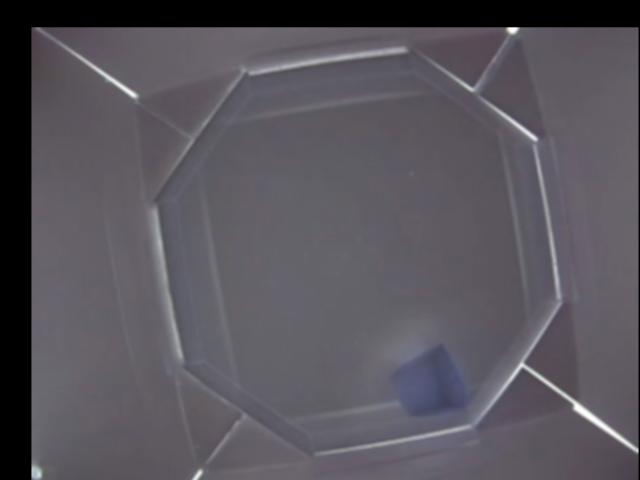Mooli: (389, 341, 466, 421)
